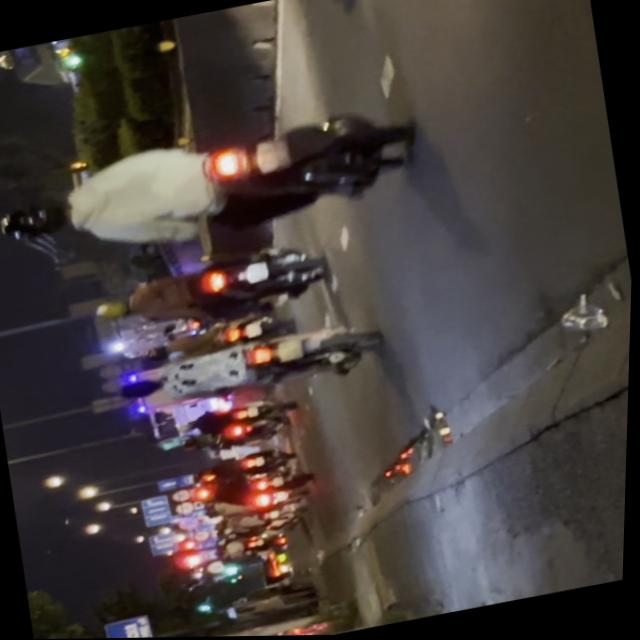helmet: (0, 196, 73, 244)
licenseplate: (0, 95, 423, 275), (113, 311, 384, 424)
motorcyclist: (118, 374, 169, 404)
nohelmet: (250, 136, 288, 174), (277, 339, 307, 363)
